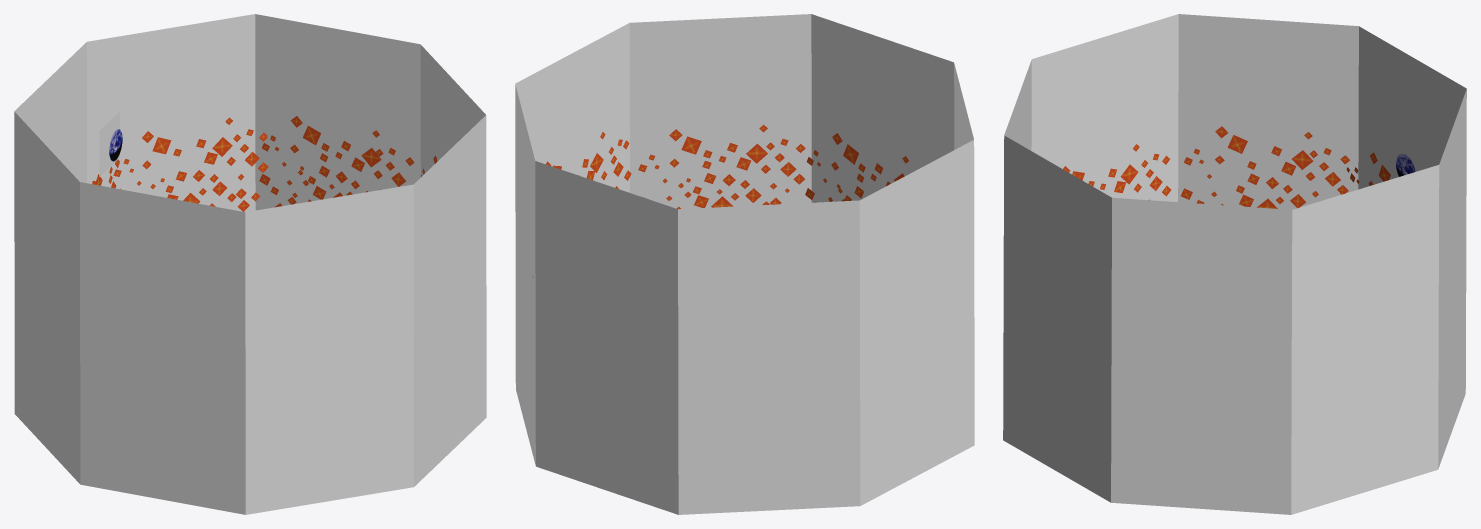
File: Binkini Doodle.obj
3 views of the same model, side by side, from view 1: azimuth 30°, elevation 25°; view 2: azimuth 150°, elevation 25°; view 3: azimuth 270°, elevation 25° (orthographic).
Parts seen in each view (by area): view 1: Binkini_Doodle_Melon_Rip; view 2: Binkini_Doodle_Melon_Rip; view 3: Binkini_Doodle_Melon_Rip.
Boxes of the visible parts, x1,y1,x2,y2 form: Binkini_Doodle_Melon_Rip: (14, 14, 486, 514); Binkini_Doodle_Melon_Rip: (515, 14, 974, 514); Binkini_Doodle_Melon_Rip: (1003, 14, 1466, 514).
Bounding box in the file's own units: 30 × 21.92 × 30.06.
21 materials, 21 textured.
